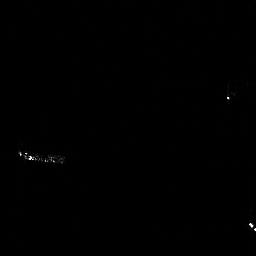ship: (18, 149, 55, 164)
